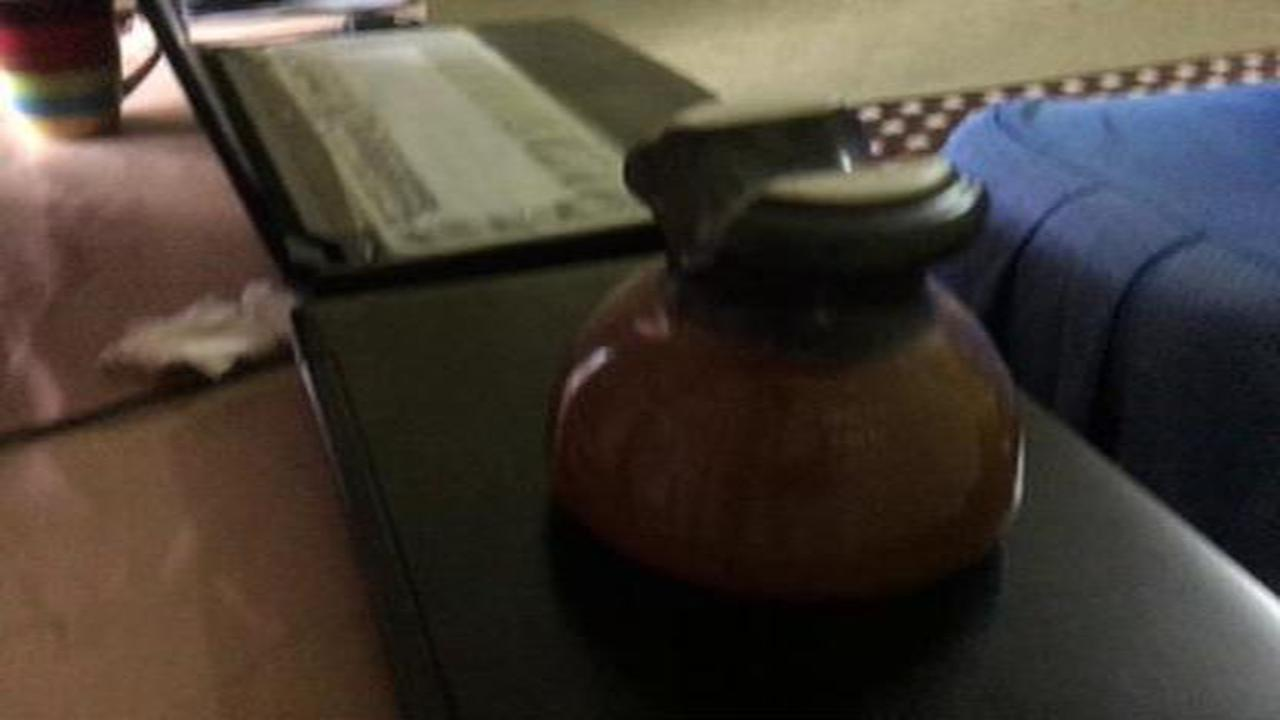insulator_pin: (536, 77, 1044, 632)
